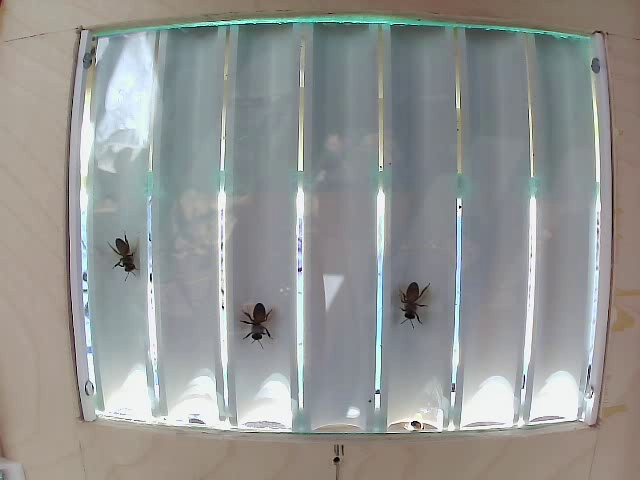bee: (229, 278, 280, 342), (392, 277, 428, 328), (102, 243, 136, 280)
